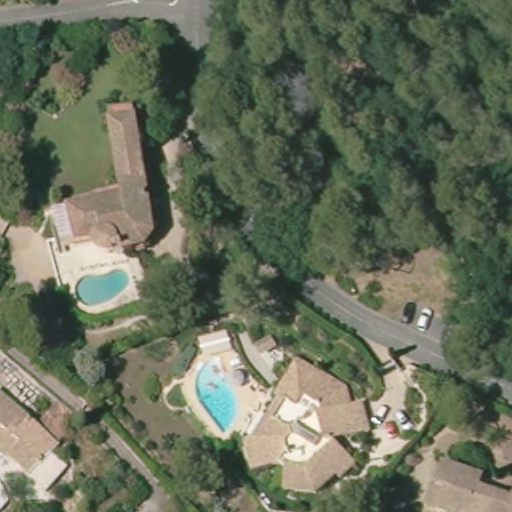pool: (195, 352, 242, 436), (73, 265, 130, 307)
